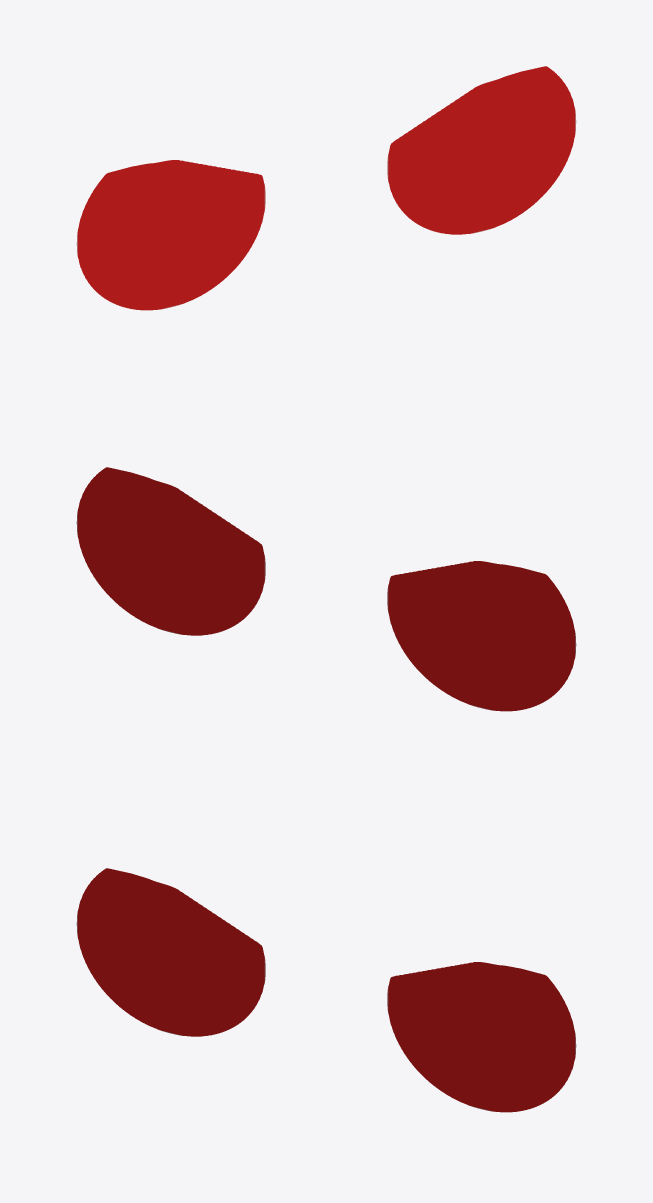
File: eyes_haunted_05_Art.fbx
3 views of the same model, one above another, from view 1: azimuth 30°, elevation 25°; view 2: azimuth 150°, elevation 25°; view 3: azimuth 330°, elevation 25° (orthographic).
Parts seen in each view (by area): view 1: eyes_haunted_05_Art; view 2: eyes_haunted_05_Art; view 3: eyes_haunted_05_Art.
Part boxes in pixels (<box>): eyes_haunted_05_Art: <box>76,66,576,310</box>; eyes_haunted_05_Art: <box>76,467,576,711</box>; eyes_haunted_05_Art: <box>76,868,576,1112</box>.
Bounding box in the file's own units: 1.2 × 0.4024 × 5.23e-08.
